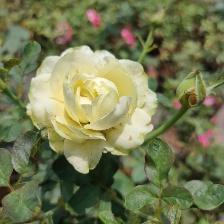rose: (27, 45, 159, 175)
